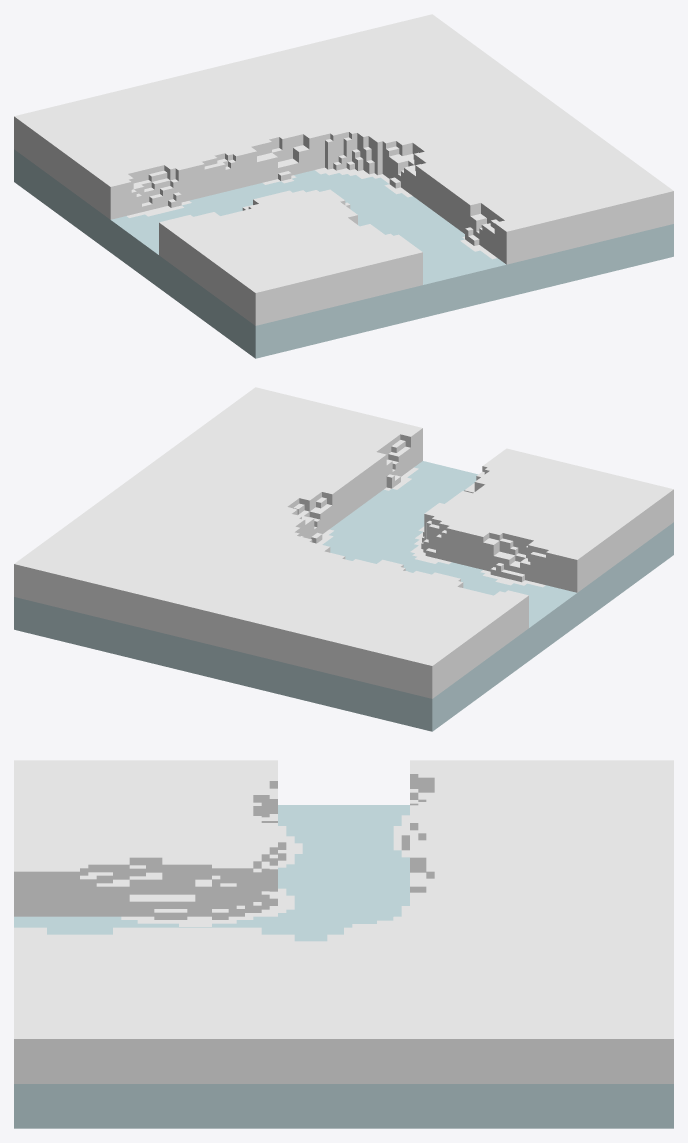
The model's file is Left Turning Path Polar Tile 1.obj.
3 views of the same model, one above another, from view 1: azimuth 30°, elevation 25°; view 2: azimuth 150°, elevation 25°; view 3: azimuth 270°, elevation 25° (orthographic). The views are drawn at different scales.
Size of the model in its own units: 8 by 1.2 by 8.
1 material, 1 textured.
